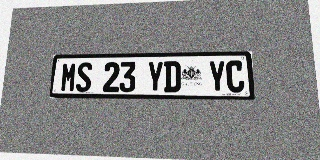2: (103, 62, 120, 92)
3: (119, 62, 136, 92)
C: (226, 60, 245, 93)
D: (164, 61, 180, 92)
M: (60, 62, 77, 92)
S: (75, 62, 92, 92)
Y: (208, 60, 226, 92), (147, 61, 163, 92)
